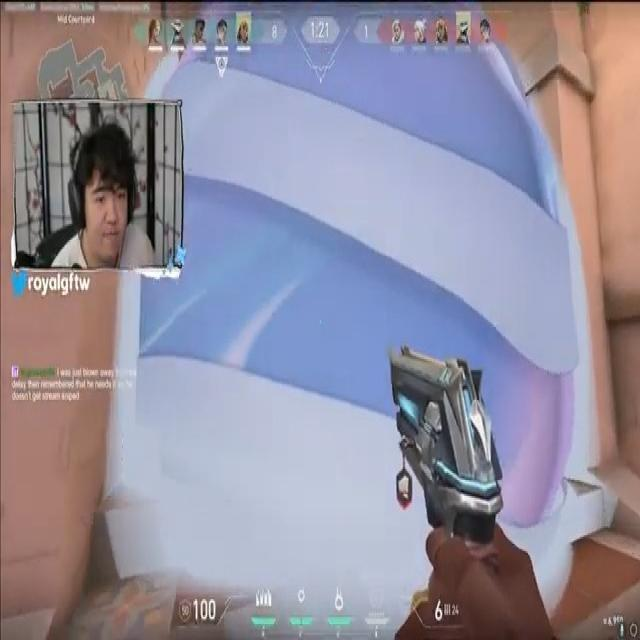smoke: (150, 15, 598, 582)
